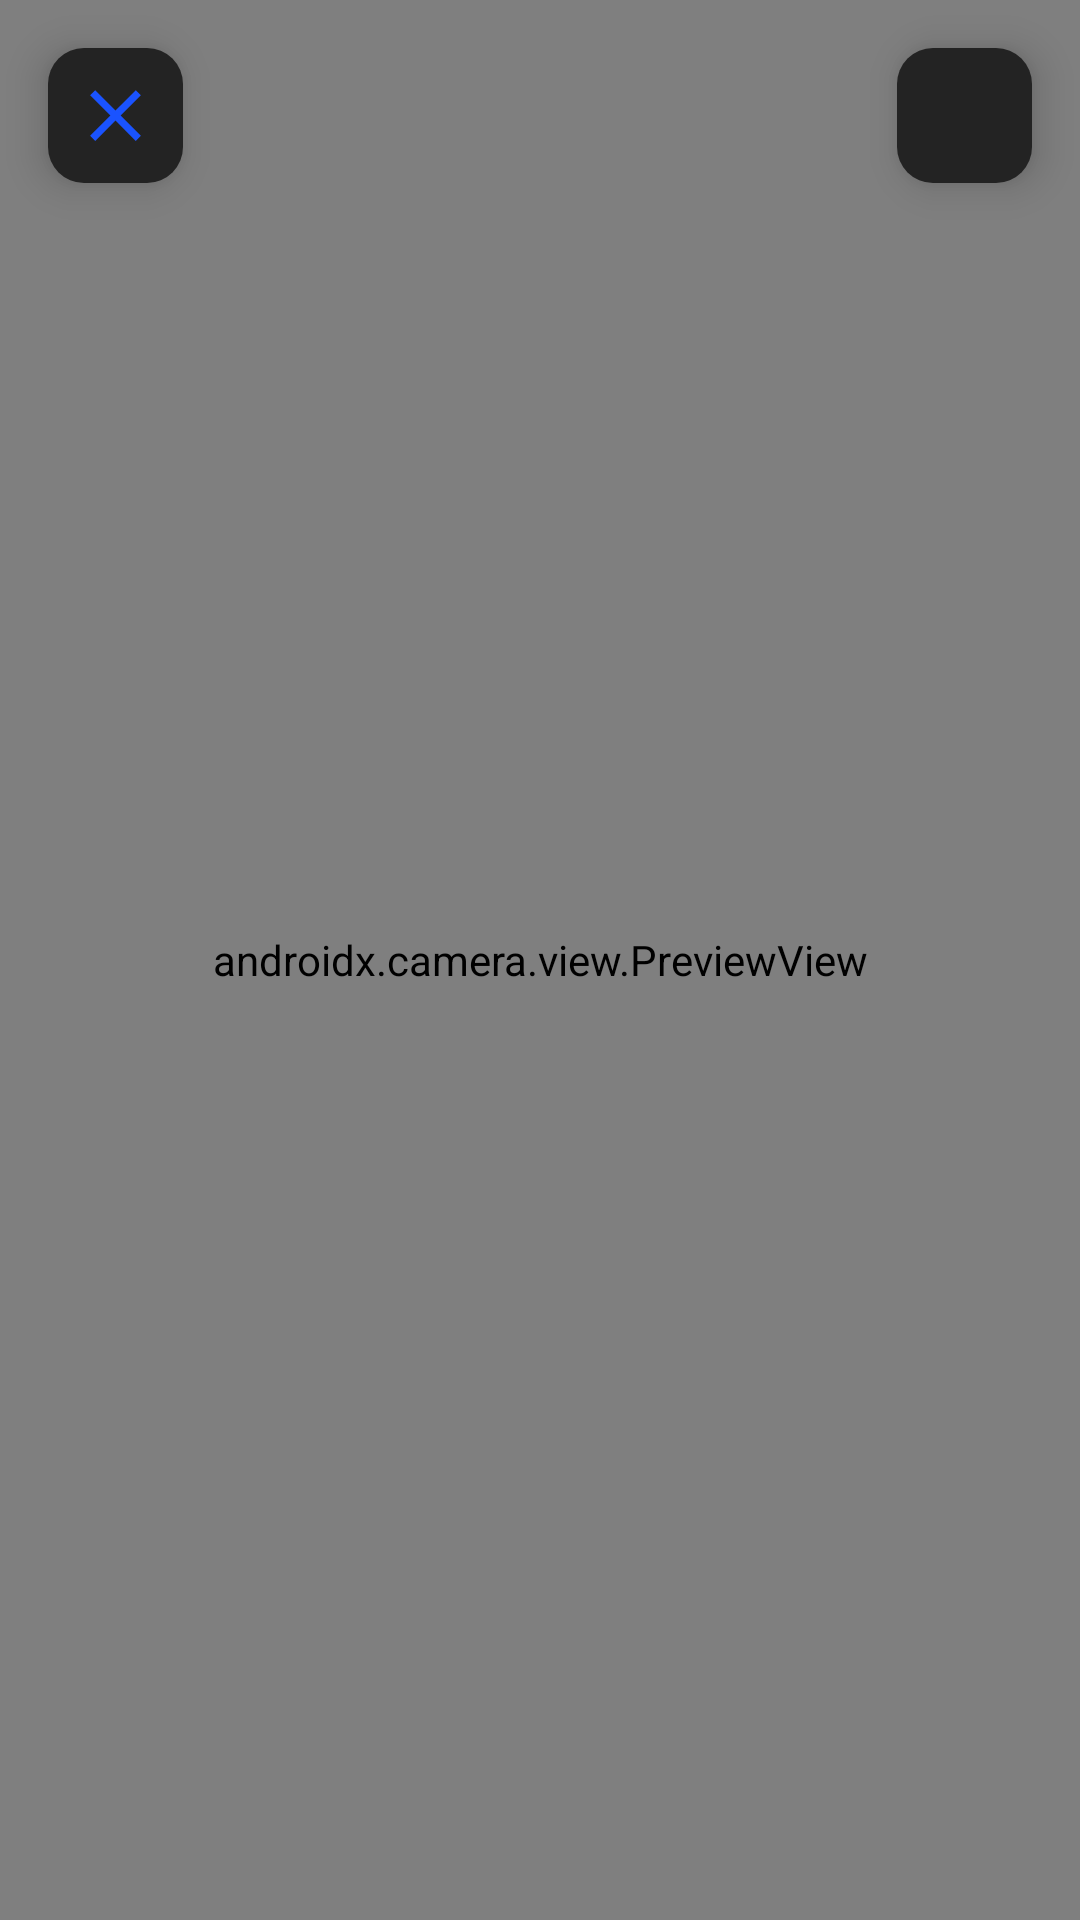

Icons on this 1080 × 1920 Android screen, each with its box as (x1, y1, x2, y2):
close: (48, 48, 183, 183)
